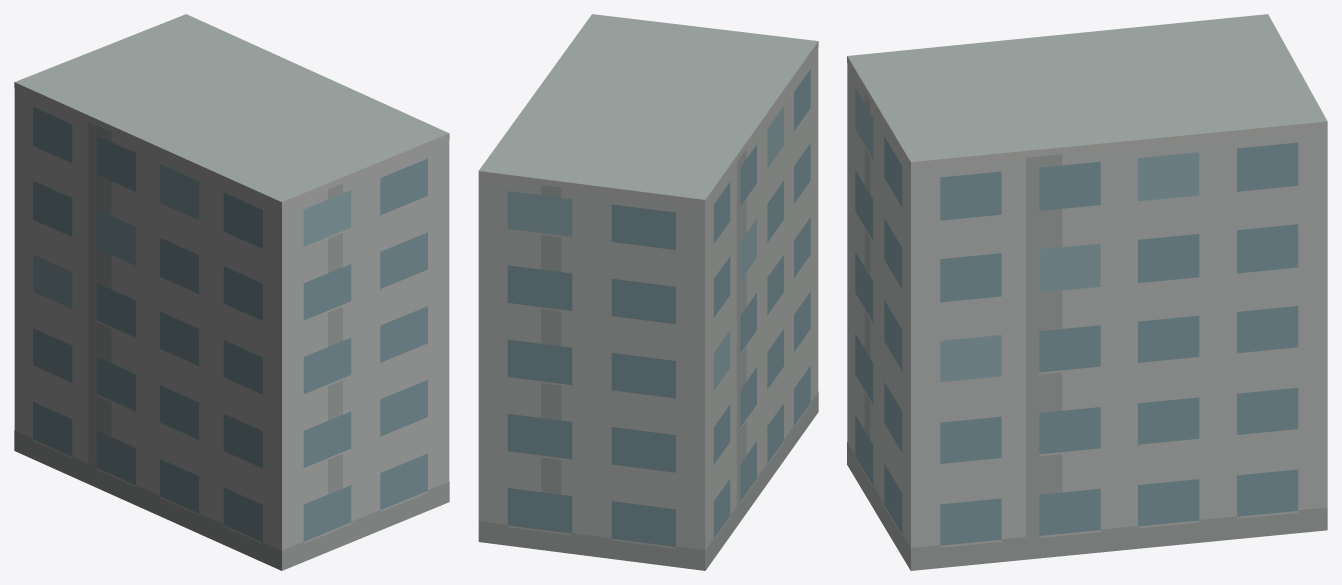
File: survey-upis-32825071.glb
3 views of the same model, side by side, from view 1: azimuth 30°, elevation 25°; view 2: azimuth 150°, elevation 25°; view 3: azimuth 270°, elevation 25° (orthographic). The views are drawn at different scales.
Visible parts, largest first — view 1: survey-upis-32825071.tmp; view 2: survey-upis-32825071.tmp; view 3: survey-upis-32825071.tmp.
Boxes of the visible parts, x1,y1,x2,y2 form: survey-upis-32825071.tmp: [14, 14, 449, 570]; survey-upis-32825071.tmp: [478, 14, 818, 570]; survey-upis-32825071.tmp: [847, 14, 1327, 570].
Bounding box in the file's own units: 11.3 × 14.52 × 15.48.
